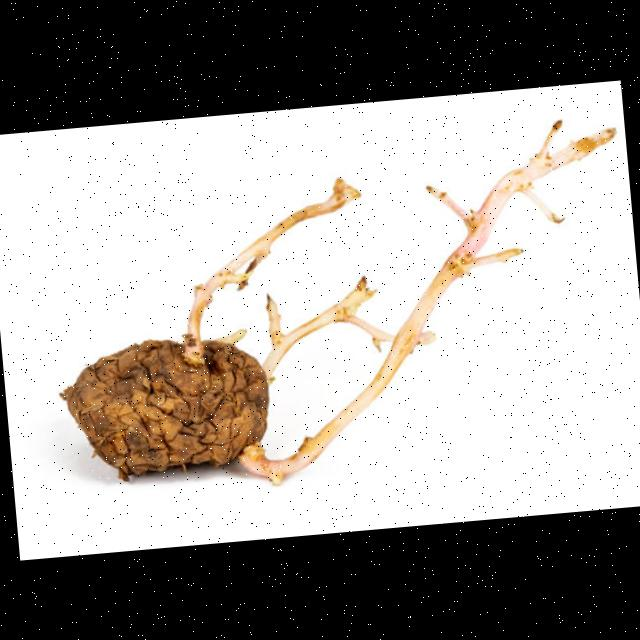Sprouted potato: (37, 232, 510, 499)
